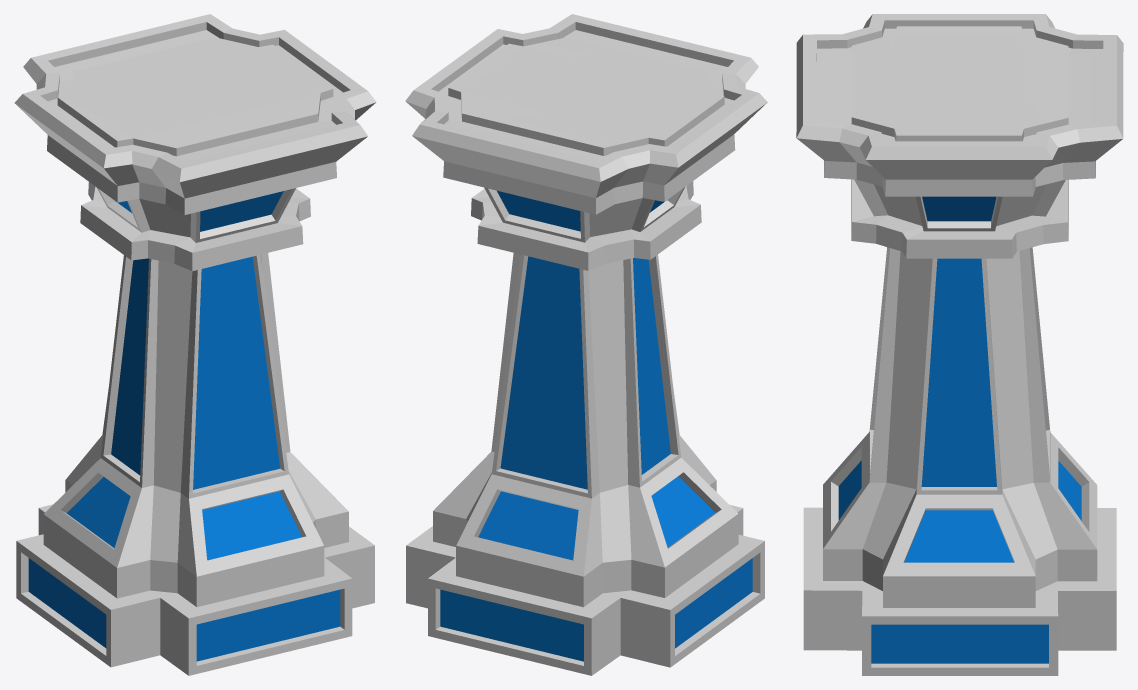
The model's file is pedestal.fbx.
3 renders of one model, left to right at view 1: azimuth 30°, elevation 25°; view 2: azimuth 150°, elevation 25°; view 3: azimuth 270°, elevation 25°, orthographic. The views are drawn at different scales.
Parts seen in each view (by area): view 1: Plane001; view 2: Plane001; view 3: Plane001.
Part boxes in pixels (x1,y1,x2,y2): Plane001: [14, 14, 376, 675]; Plane001: [405, 14, 767, 675]; Plane001: [796, 14, 1123, 675].
Size of the model in its own units: 84.98 by 152 by 84.93.
